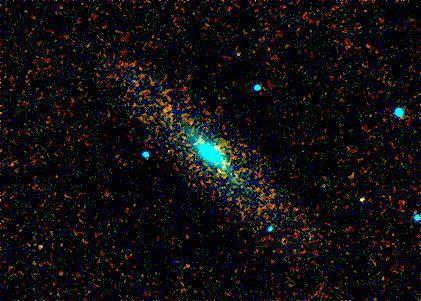star: (347, 185, 377, 215)
